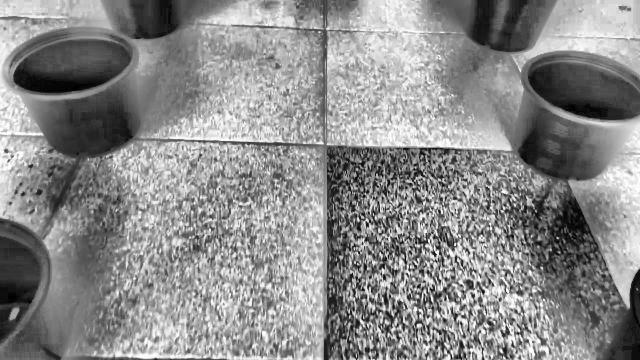pot: (0, 26, 144, 157), (513, 51, 640, 181)
